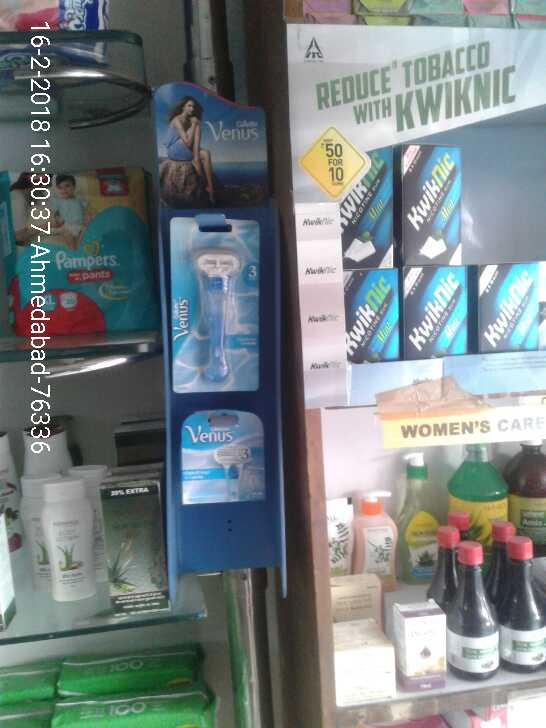beauty: (172, 212, 268, 392), (178, 404, 278, 504)
pharmacy: (9, 164, 165, 341)
